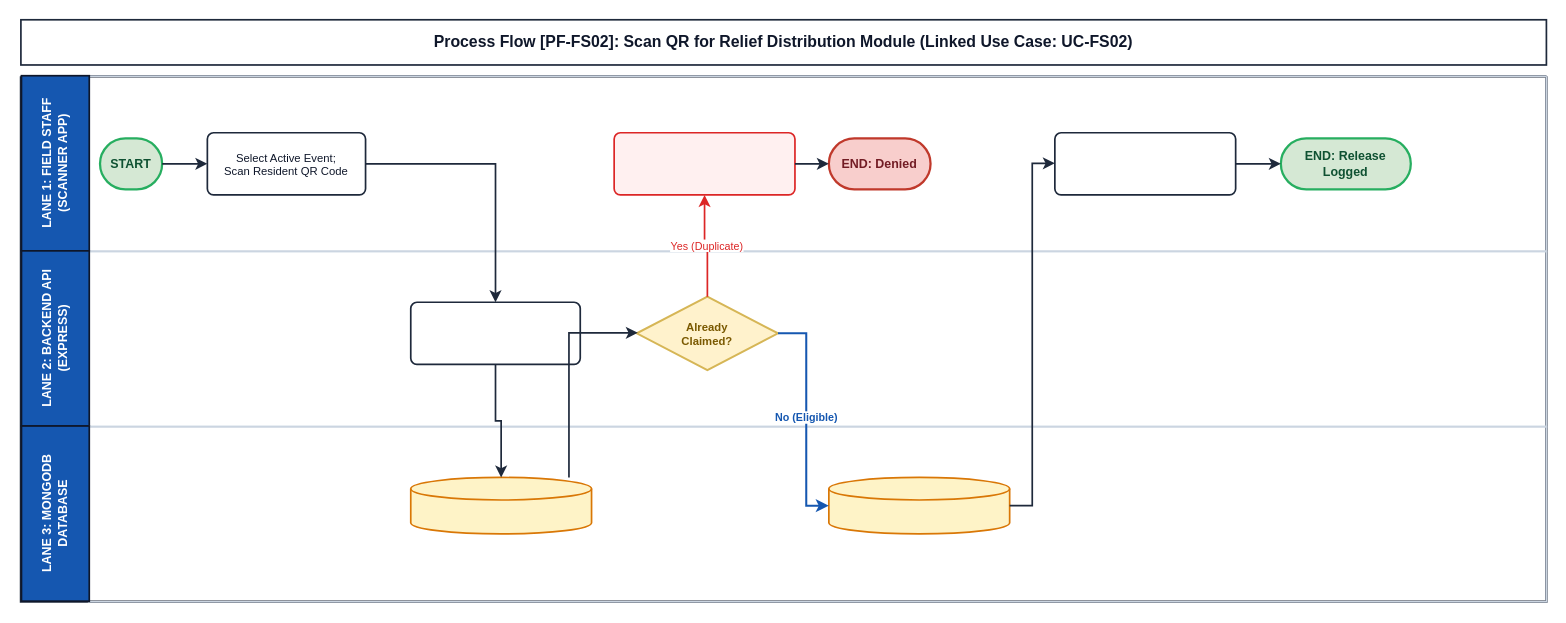
Image size: 1566x623. Some labels were removed from this diagram. The shapes that lost their labels are listed below. From the top down, each one's centre as x and y in pixels, then its label:
point (704, 163): Show "DUPLICATE FRAUD ALERT" Stream Incident to Dashboard
point (1144, 163): Show "VERIFIED BENEFICIARY" Confirm Physical Release
point (495, 333): POST /api/distributions/release { eventId, qrCode }
point (500, 505): MongoDB: Compound Index Check (householdId + eventId)
point (918, 505): MongoDB: Insert Distribution & Deduct Warehouse Inventory
